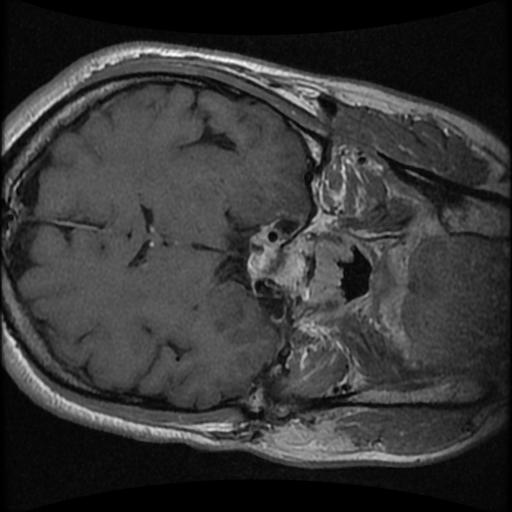pituitary tumour: (243, 225, 283, 284)
